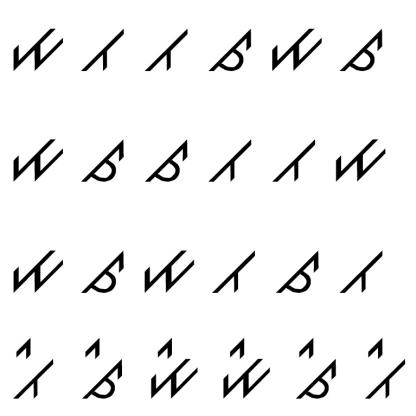ba: (208, 244, 257, 299), (268, 135, 318, 188), (339, 242, 389, 295), (78, 26, 128, 77), (208, 134, 254, 187), (142, 25, 191, 74)
bi: (357, 331, 408, 401), (6, 338, 56, 404)
ca: (78, 245, 130, 298), (338, 25, 388, 78), (142, 136, 192, 188), (206, 26, 255, 77), (274, 246, 323, 296), (80, 137, 129, 185)
ci: (78, 333, 126, 403), (294, 334, 341, 400)
ma: (8, 20, 66, 79), (327, 131, 390, 184), (264, 20, 328, 72), (7, 130, 65, 186), (7, 244, 67, 296), (139, 244, 197, 294)
mi: (214, 335, 274, 400), (144, 336, 200, 400)
